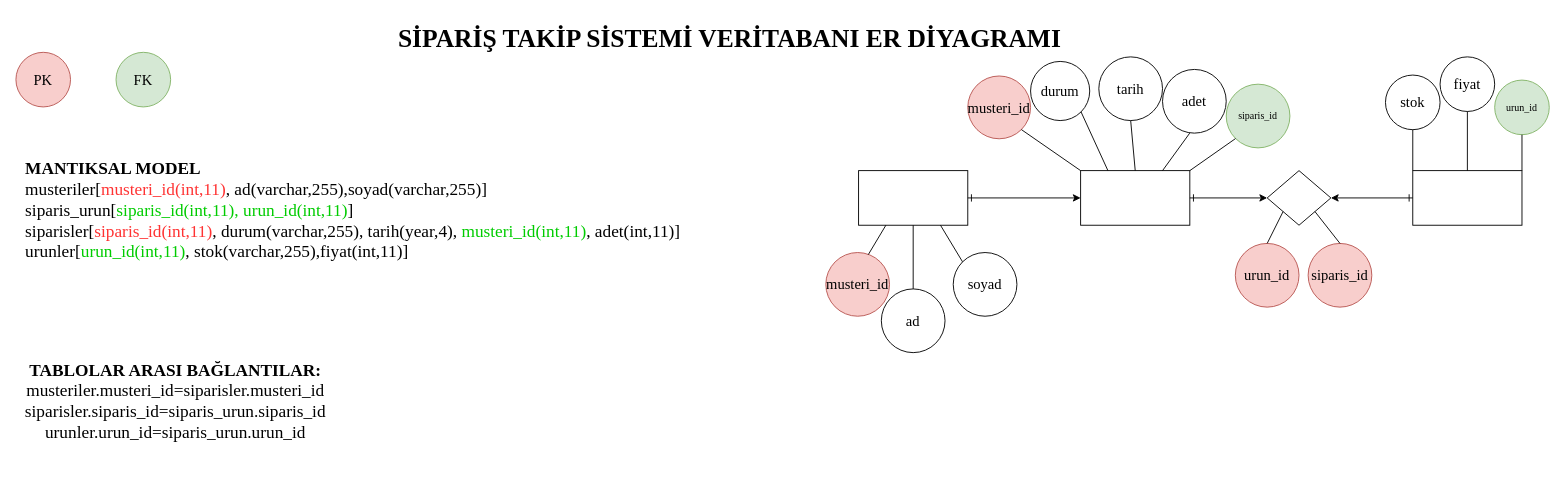
Some shapes in this 1565 by 486 pixel diagram are drawn without their labels. Here are the shapes that lost their labels. From the top down, the centre of each, then its label:
At (x=913, y=197): "musteriler".
At (x=1135, y=197): "siparisler".
At (x=1298, y=197): "siparis_urun".
At (x=1467, y=197): "urunler".
